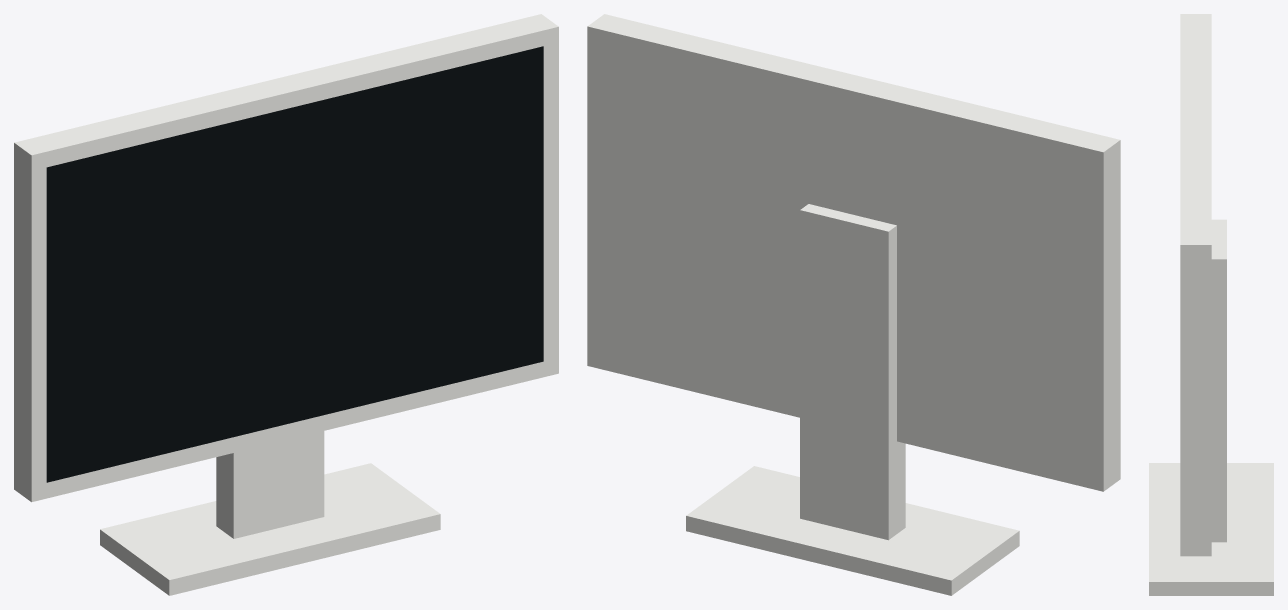
The model's file is Display.obj.
3 views of the same model, side by side, from view 1: azimuth 30°, elevation 25°; view 2: azimuth 150°, elevation 25°; view 3: azimuth 270°, elevation 25° (orthographic). The views are drawn at different scales.
Parts seen in each view (by area): view 1: Display; view 2: Display; view 3: Display.
Boxes of the visible parts, left/top/right/bottom form: Display: left=14, top=14, right=558, bottom=595; Display: left=587, top=14, right=1120, bottom=595; Display: left=1149, top=14, right=1273, bottom=595.
Size of the model in its own units: 35 by 29 by 8.
Materials: 1 (1 with a texture image).
